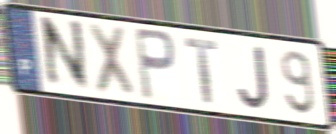9: (279, 49, 317, 117)
J: (235, 43, 272, 112)
N: (42, 14, 91, 94)
P: (132, 25, 178, 104)
T: (182, 36, 219, 106)
X: (85, 20, 137, 102)
